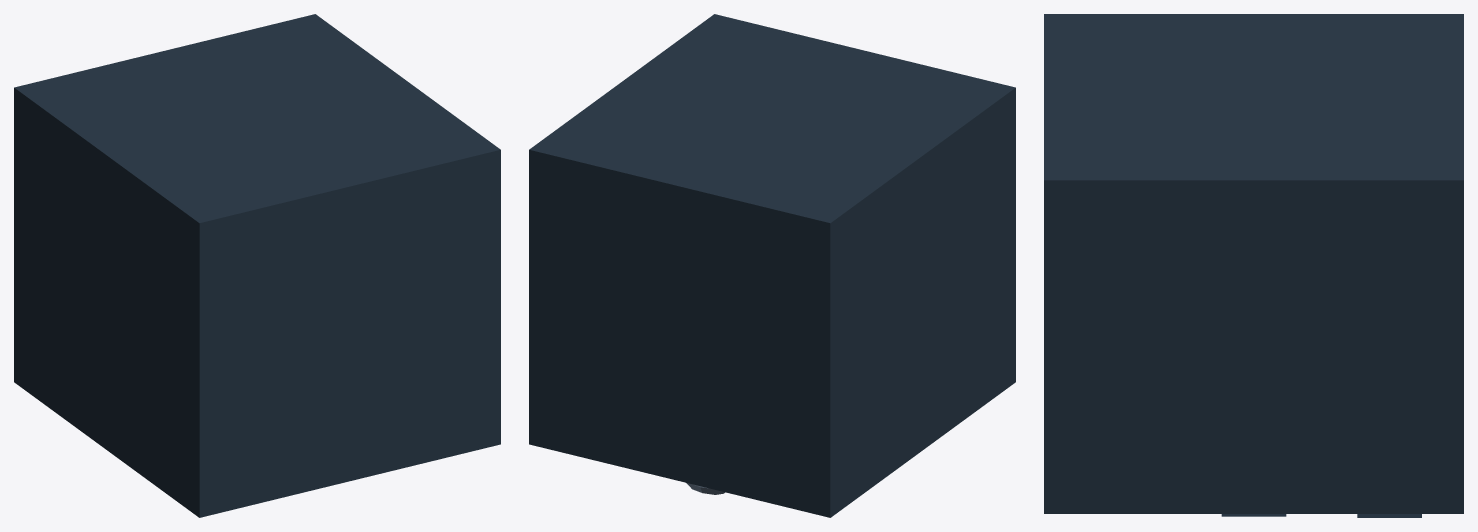
The model's file is tinker.obj.
3 views of the same model, side by side, from view 1: azimuth 30°, elevation 25°; view 2: azimuth 150°, elevation 25°; view 3: azimuth 270°, elevation 25° (orthographic). The views are drawn at different scales.
Parts seen in each view (by area): view 1: group_0_2570054; view 2: group_0_2570054; view 3: group_0_2570054.
Part boxes in pixels (x1,y1,x2,y2): group_0_2570054: [14, 14, 500, 517]; group_0_2570054: [529, 14, 1015, 517]; group_0_2570054: [1044, 14, 1463, 513].
Bounding box in the file's own units: 122 × 126 × 130.
